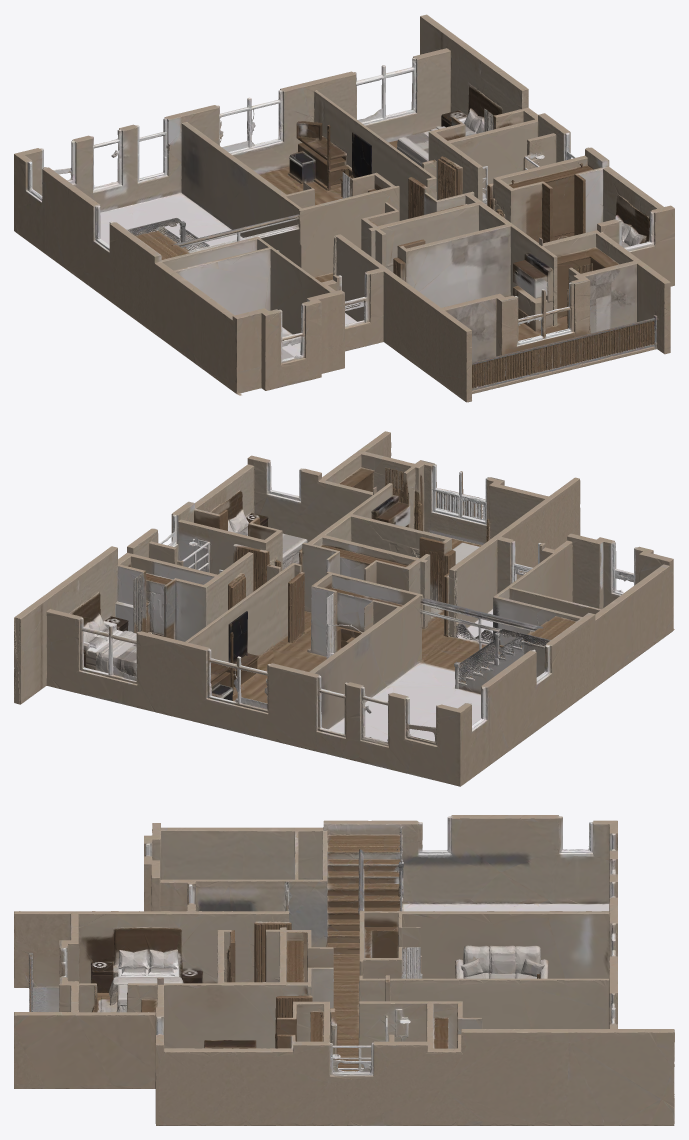
Rendered from harmony-1.glb.
The picture shows the model from 3 angles, top to bottom: view 1: azimuth 30°, elevation 25°; view 2: azimuth 150°, elevation 25°; view 3: azimuth 270°, elevation 25°; orthographic projection. The views are drawn at different scales.
Parts seen in each view (by area): view 1: geometry_0; view 2: geometry_0; view 3: geometry_0.
Part boxes in pixels (x1=…): geometry_0: x1=14, y1=14, x2=674, y2=402; geometry_0: x1=14, y1=431, x2=674, y2=786; geometry_0: x1=14, y1=815, x2=674, y2=1125.
Size of the model in its own units: 15.34 by 3 by 19.09.
Materials: 1 (1 with a texture image).
